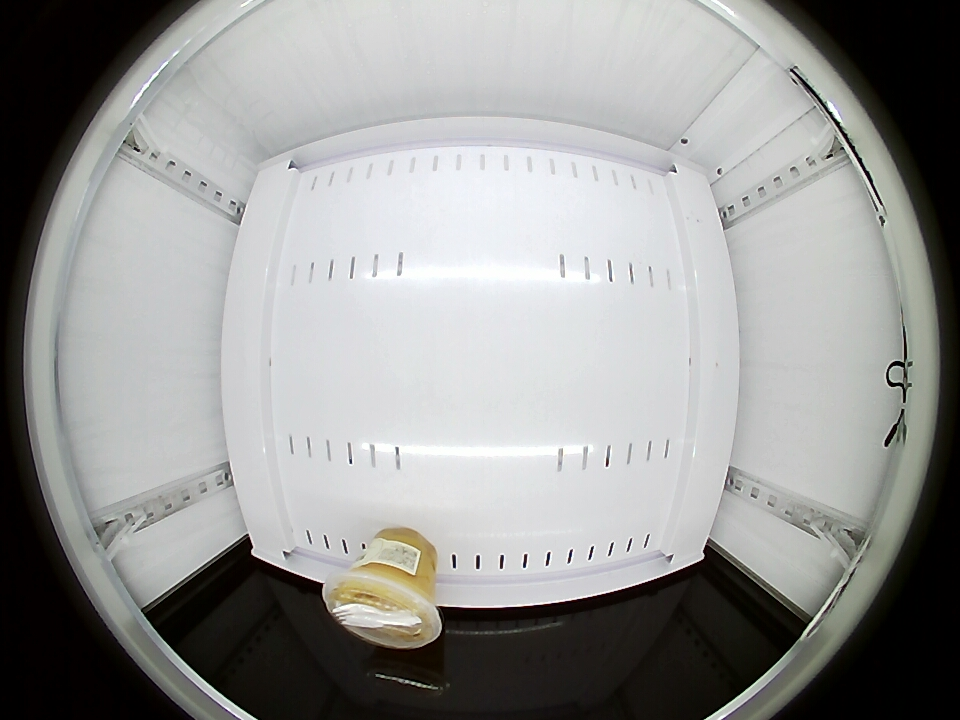xianguolao: (323, 563, 443, 649)
